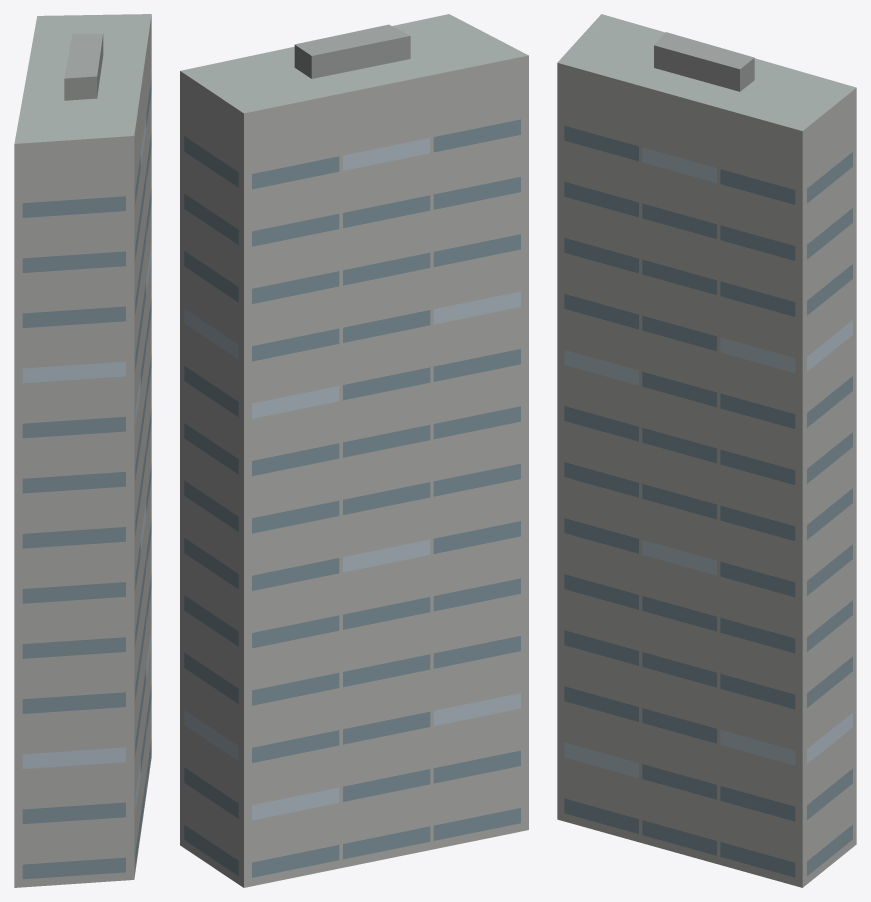
File: fallback-trizium-preserved-1.glb
The picture shows the model from 3 angles, left to right: view 1: azimuth 30°, elevation 25°; view 2: azimuth 150°, elevation 25°; view 3: azimuth 270°, elevation 25°; orthographic projection. The views are drawn at different scales.
Parts seen in each view (by area): view 1: fallback-trizium-preserved-1; view 2: fallback-trizium-preserved-1; view 3: fallback-trizium-preserved-1.
Part boxes in pixels (x1=…): fallback-trizium-preserved-1: x1=14, y1=14, x2=151, y2=887; fallback-trizium-preserved-1: x1=180, y1=14, x2=528, y2=887; fallback-trizium-preserved-1: x1=557, y1=14, x2=856, y2=887.
Size of the model in its own units: 26.76 by 83 by 28.9.
